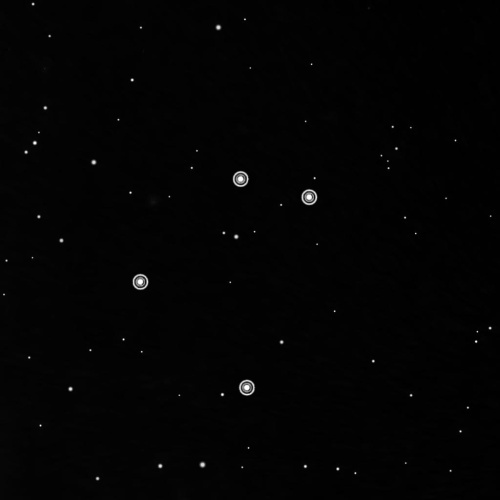coma_berenices: (124, 160, 325, 405)
